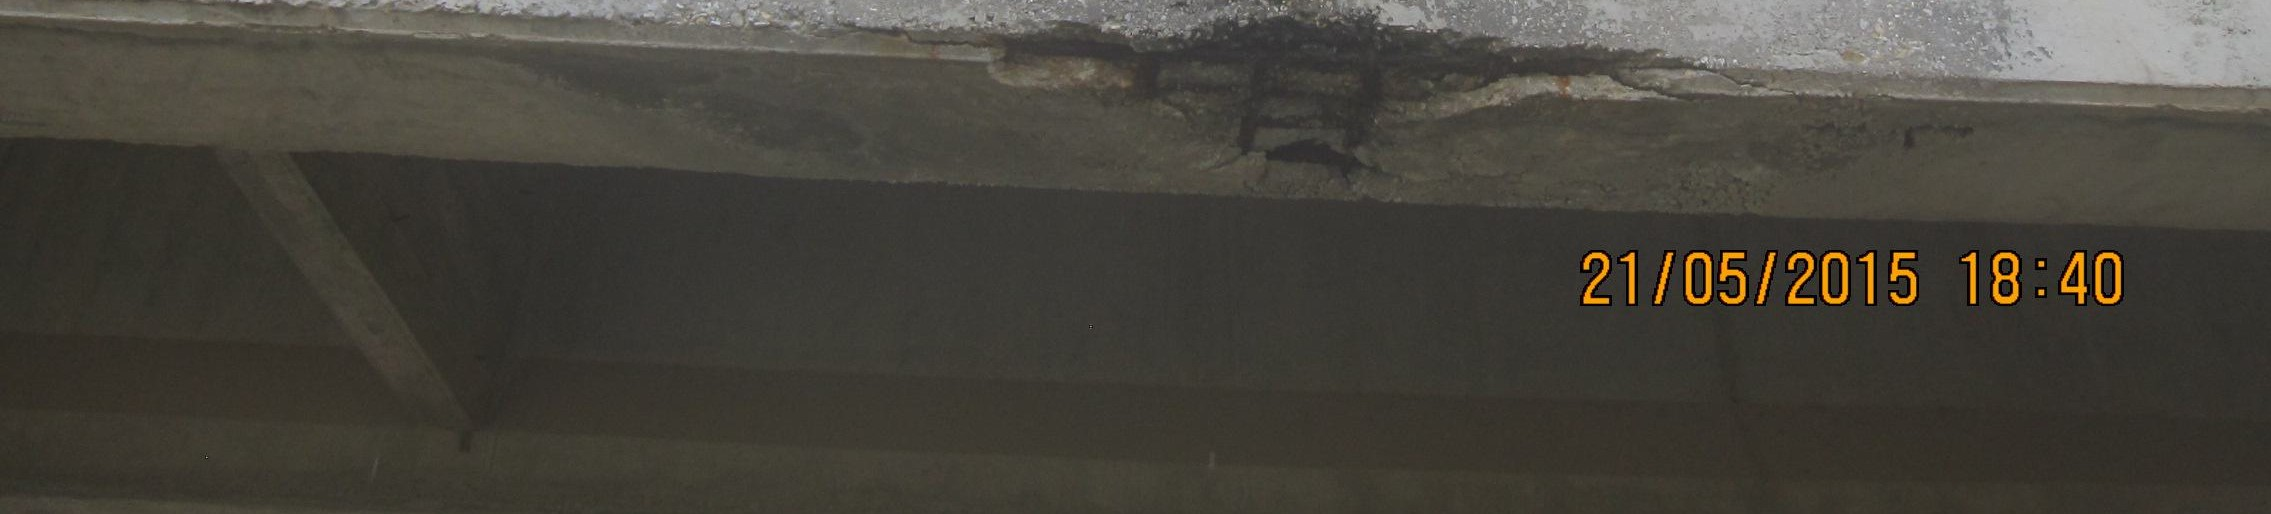Crack: (1618, 64, 1805, 103), (833, 10, 1005, 51), (1611, 72, 1695, 104)
Exposed reinforcement: (1023, 38, 1598, 77), (1264, 136, 1360, 168), (1238, 67, 1272, 156), (1346, 68, 1382, 148), (1256, 113, 1348, 130), (1263, 88, 1359, 104), (1135, 54, 1162, 98)
Spalling: (985, 1, 1696, 197)
